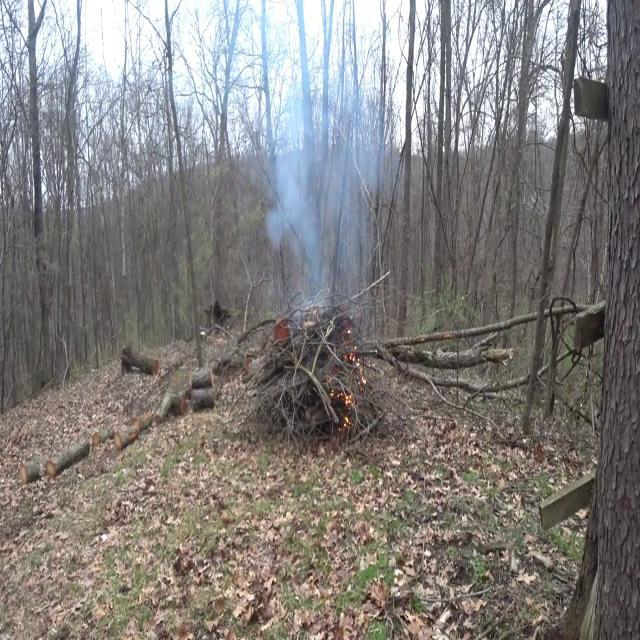Smoke: (262, 47, 380, 326)
